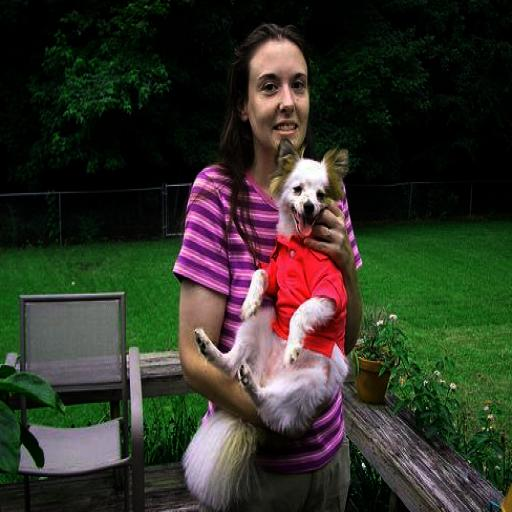dog_face: (276, 143, 341, 240)
